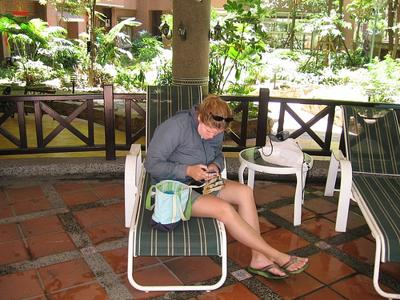person: (144, 94, 310, 282)
